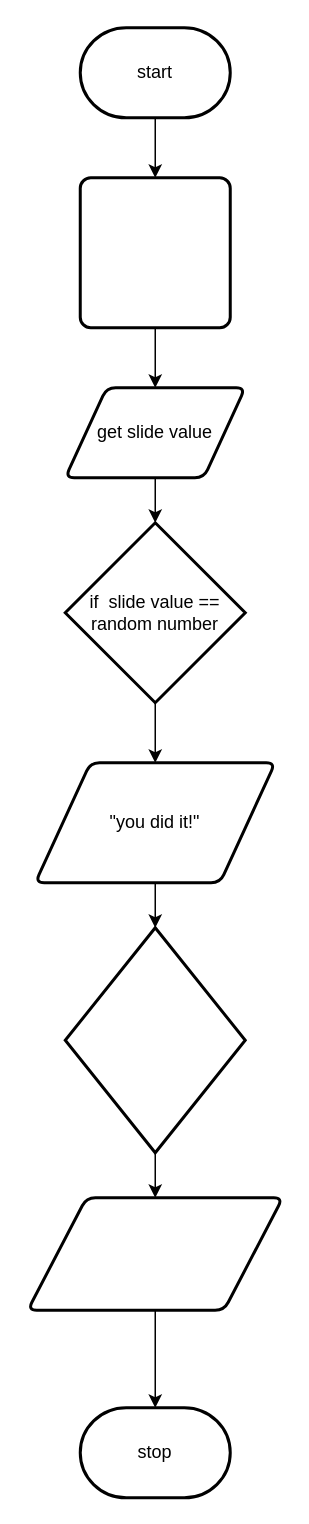
This 309x1524 diagram has some shape labels left out. The centre of each missing label's shape, as x and y in pixels:
"ha ha, you thought.": the point at 155,1253
generate random number: the point at 154,252
if slide value != random number: the point at 154,1040
